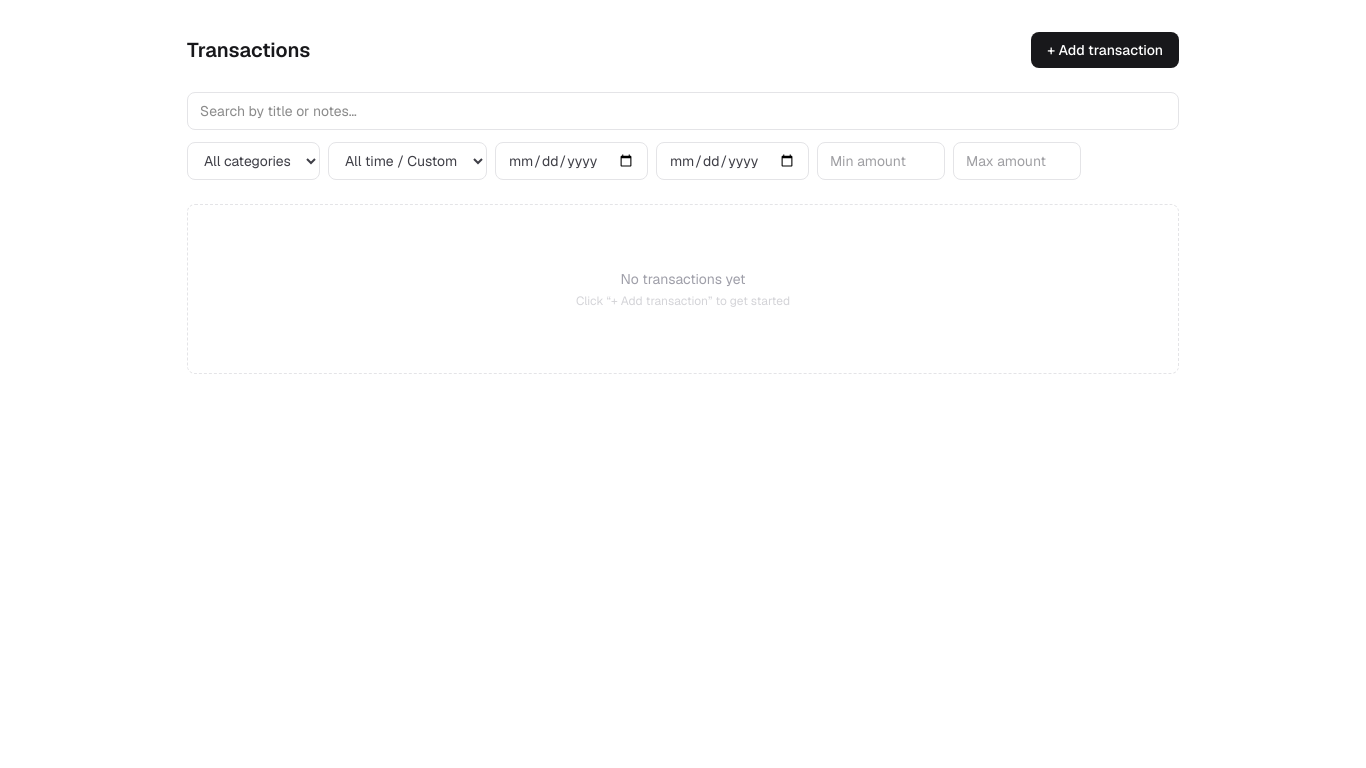
TransactionModal — form validation › shows "Select a category" when category is cleared before submit
Click the button "+ Add transaction".
click(1105, 50)  # box [1031,32,1179,68]
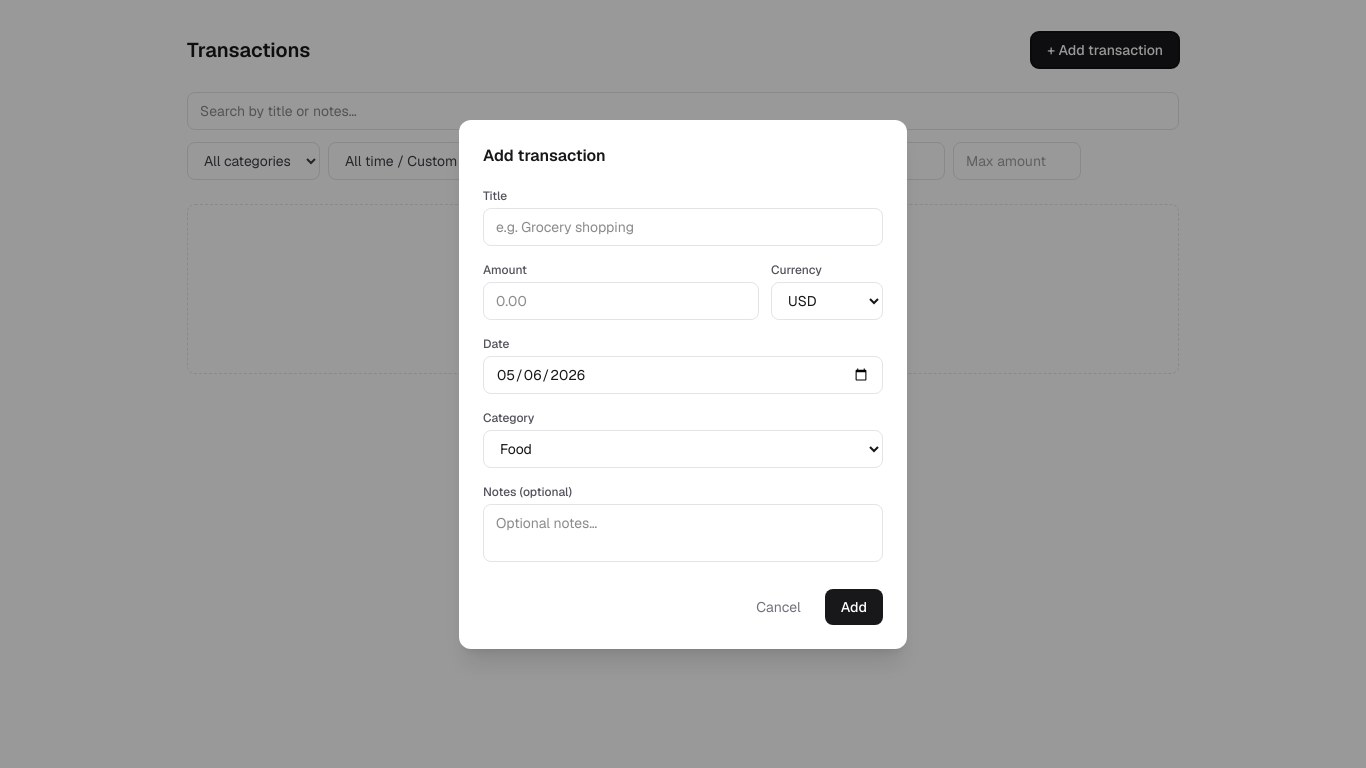
Note: categoryId defaults to categories[0].id — clear it to trigger the error
Select "Select category" in the dropdown showing "Food" below "Category" at (683, 448), box [483,430,883,468]
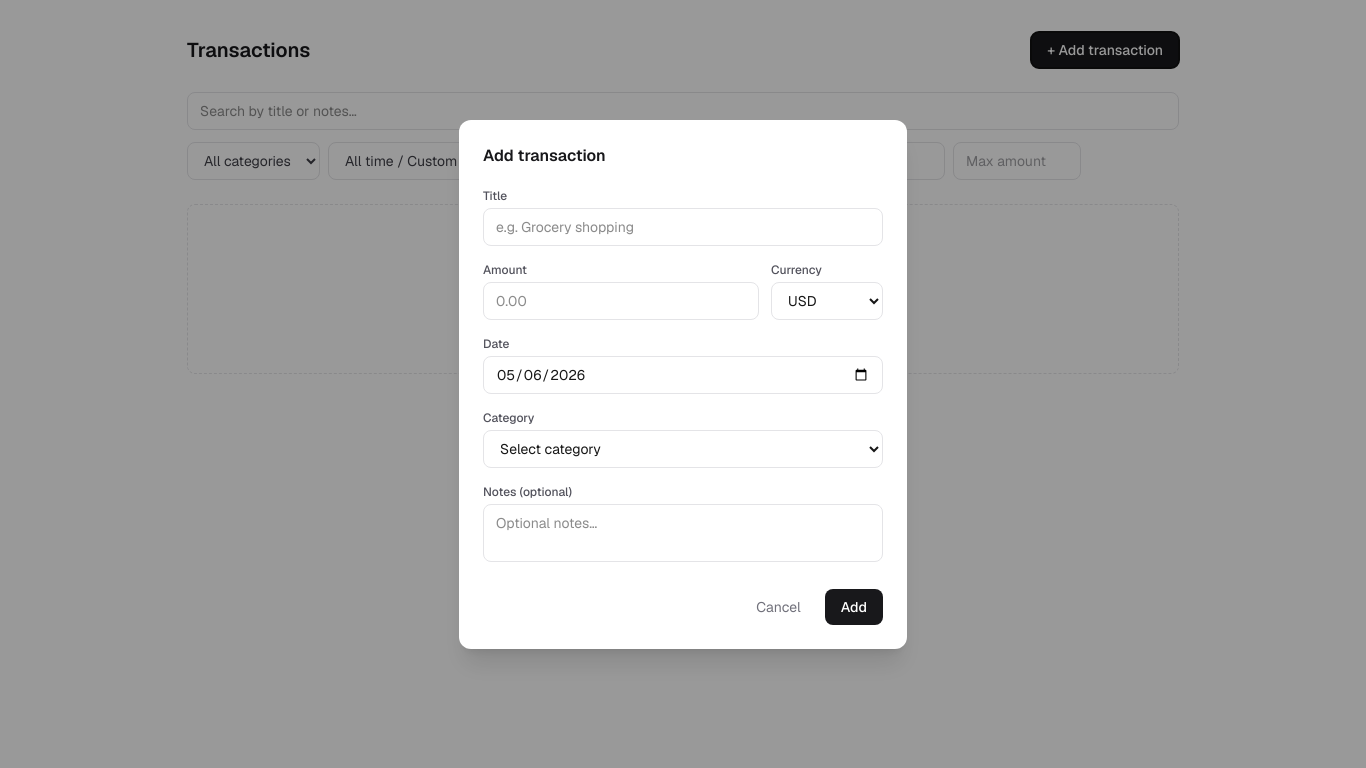
Click the button "Add".
click(854, 606)  # box [825,588,883,624]
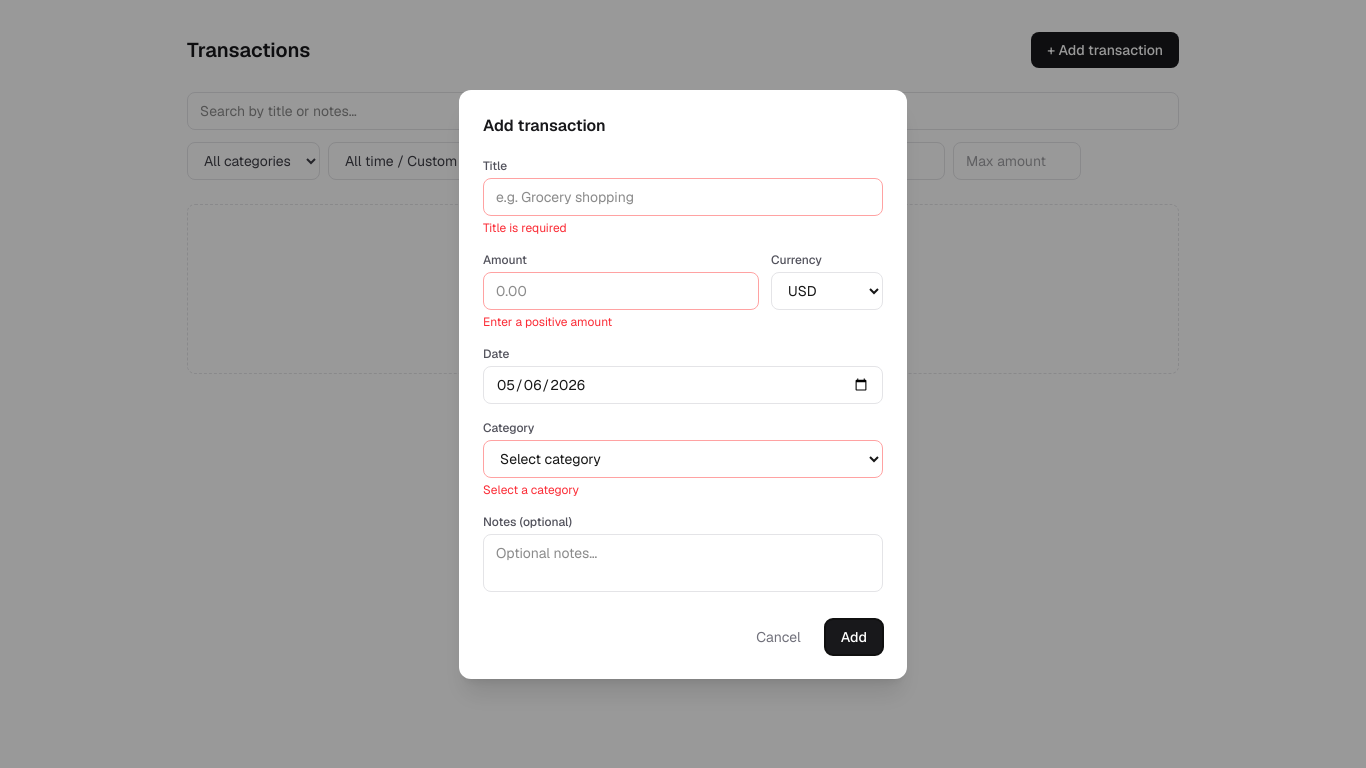
Expected: the text "Select a category" is shown, [483,482,579,498]
